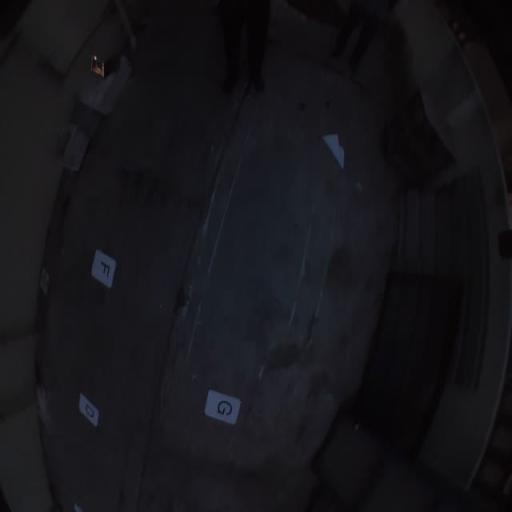D: (79, 394, 99, 428)
F: (91, 249, 116, 288)
G: (204, 388, 241, 426)
